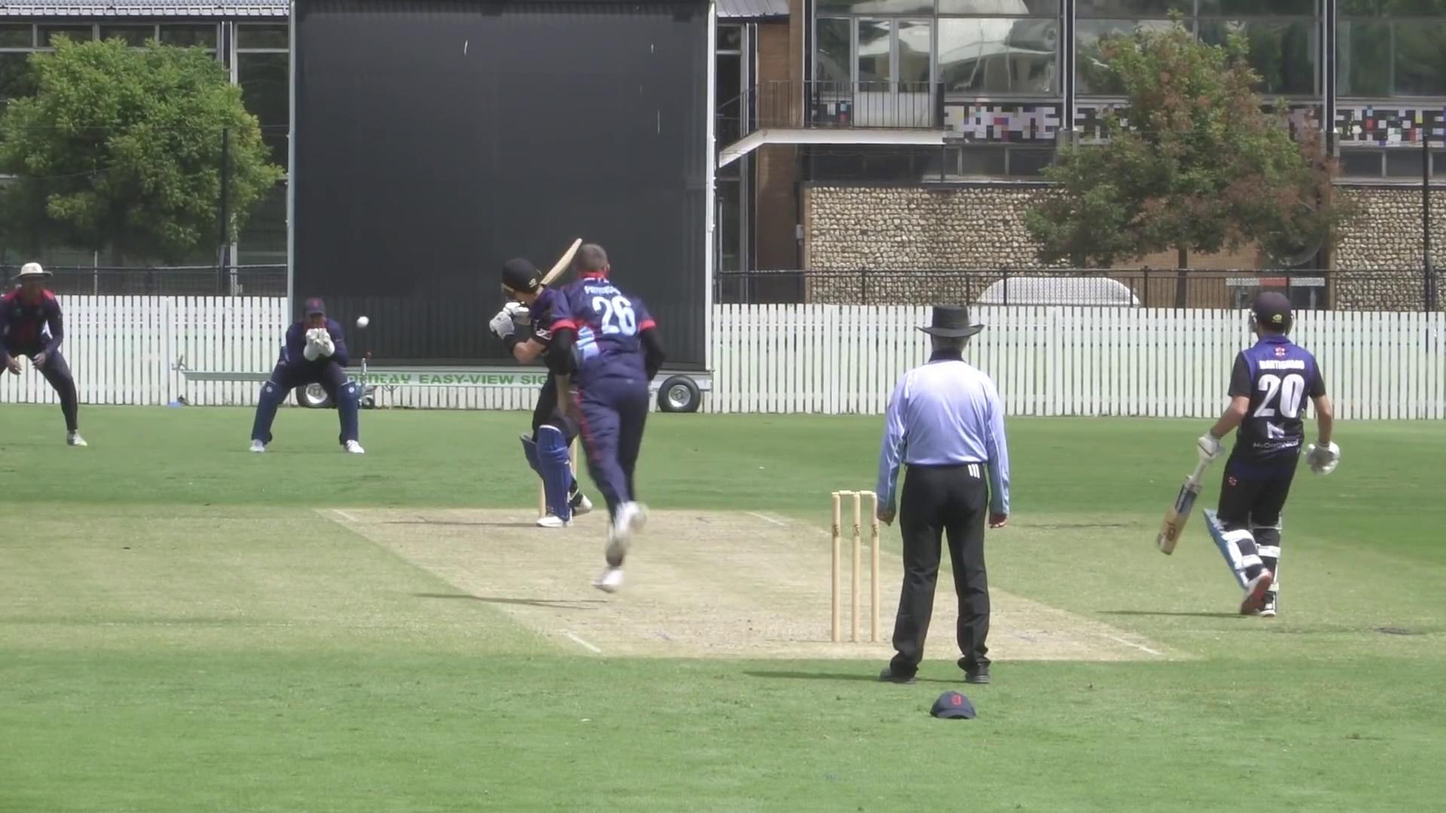ball: (352, 310, 372, 334)
